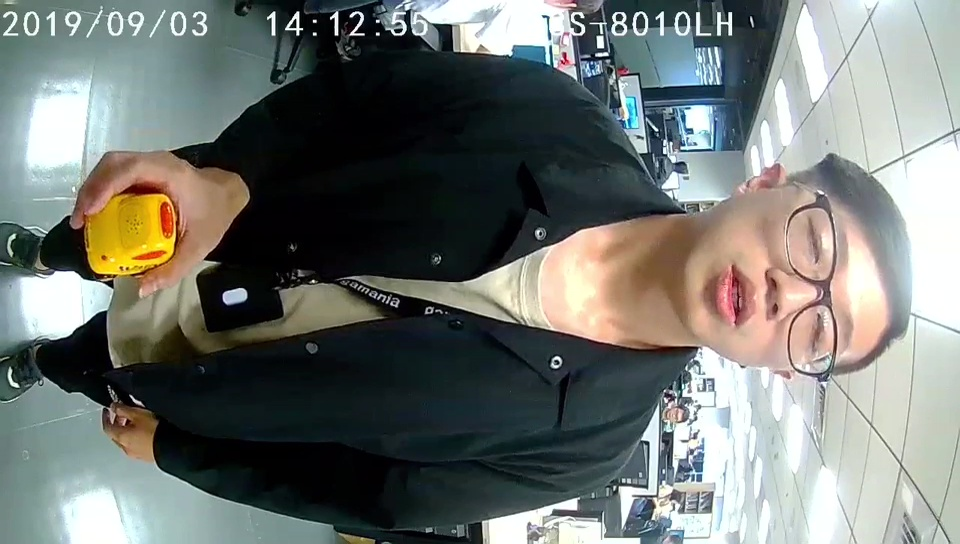car: (86, 191, 177, 273)
